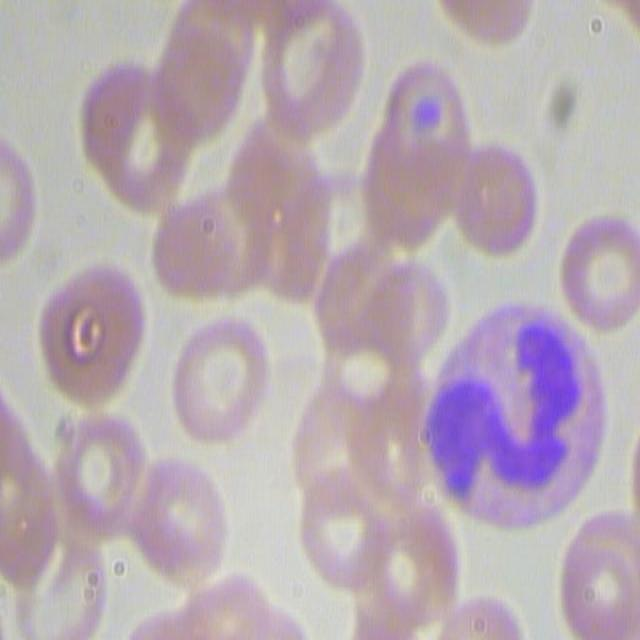RBC: (288, 388, 395, 602), (314, 247, 433, 438), (362, 45, 466, 254), (223, 120, 329, 316), (80, 64, 194, 220), (350, 484, 460, 640), (36, 259, 142, 415), (165, 300, 271, 451), (0, 486, 103, 638), (251, 0, 361, 128), (44, 402, 148, 535), (151, 0, 259, 128), (128, 456, 230, 583), (440, 140, 542, 265), (552, 512, 640, 640), (563, 214, 640, 344), (429, 0, 542, 48), (0, 133, 38, 271)
WBC: (420, 295, 609, 552)
